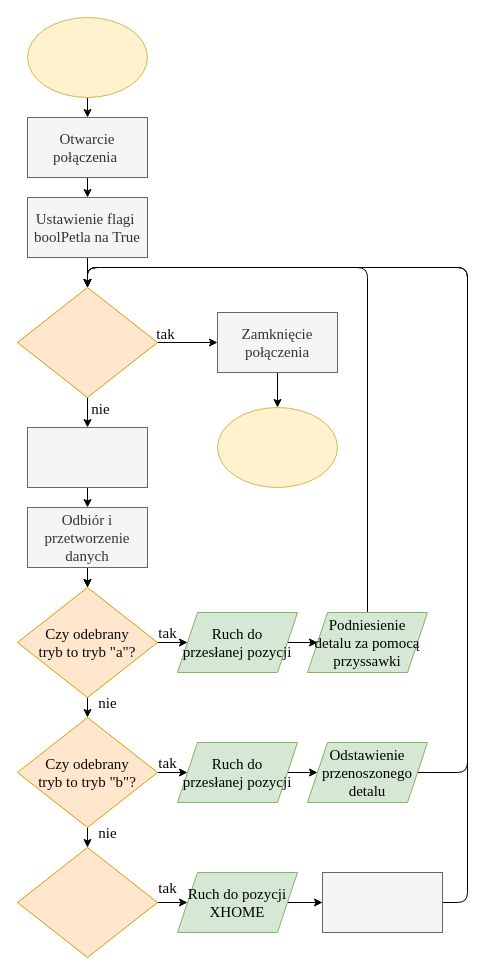
Some shapes in this 493 by 975 pixel diagram are drawn without their labels. The shapes that lost their labels are listed below. From the top down, each one's centre as x and y in pixels, then its label:
point 87,57: Inicjalizacja
point 87,342: Czy flaga boolPetla została zmieniona na False?
point 87,457: Oczekiwanie na dane z Ethernet.KRL
point 277,447: Zakończenie pracy
point 87,902: Czy odebrany tryb to tryb "c"?
point 382,902: Ustawienie flagi boolPetla na False
